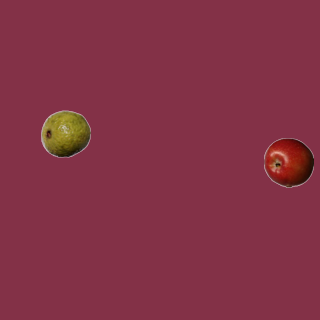Apple Braeburn: (263, 137, 313, 187)
Guava: (40, 108, 90, 158)
